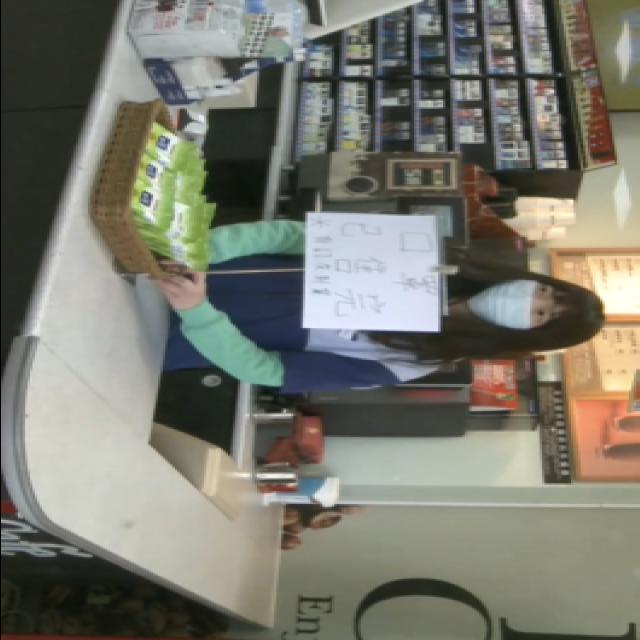mask: (471, 275, 563, 328)
